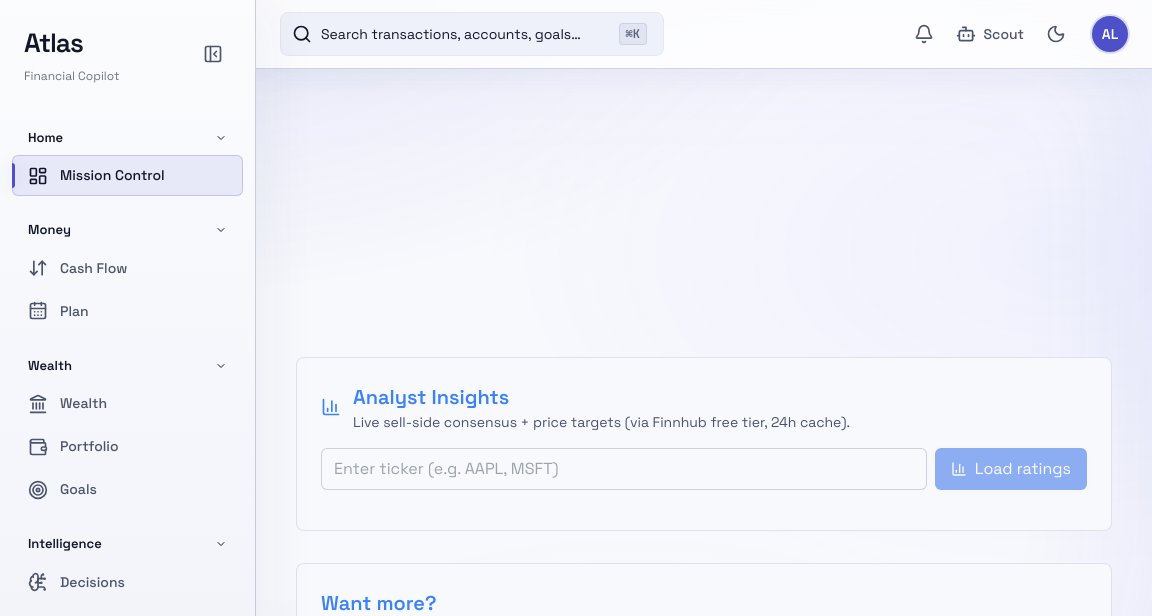
Test: Recommendations Page -- Analyst Insights section › surfaces a friendly retry banner on backend 502
This screenshot has width=1152, height=616.
(page scrolled)
In the field with test id "analyst-ticker-input": (624, 469) [321,448,927,490], type "AAPL"
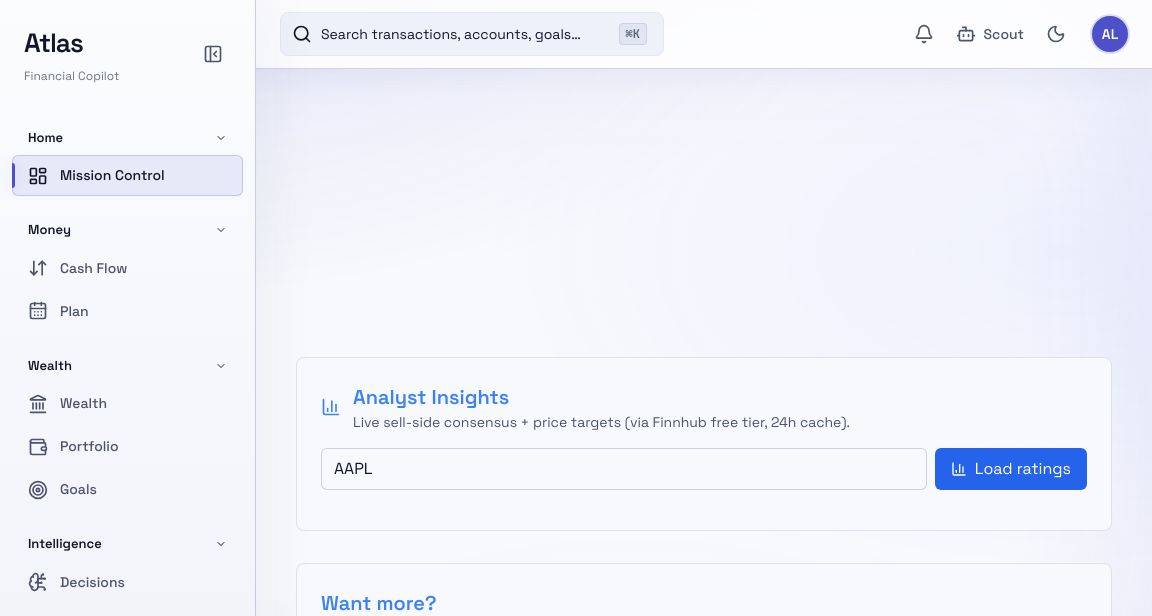
Click the button with test id "analyst-load-btn": click(1011, 469) [935,448,1087,490]
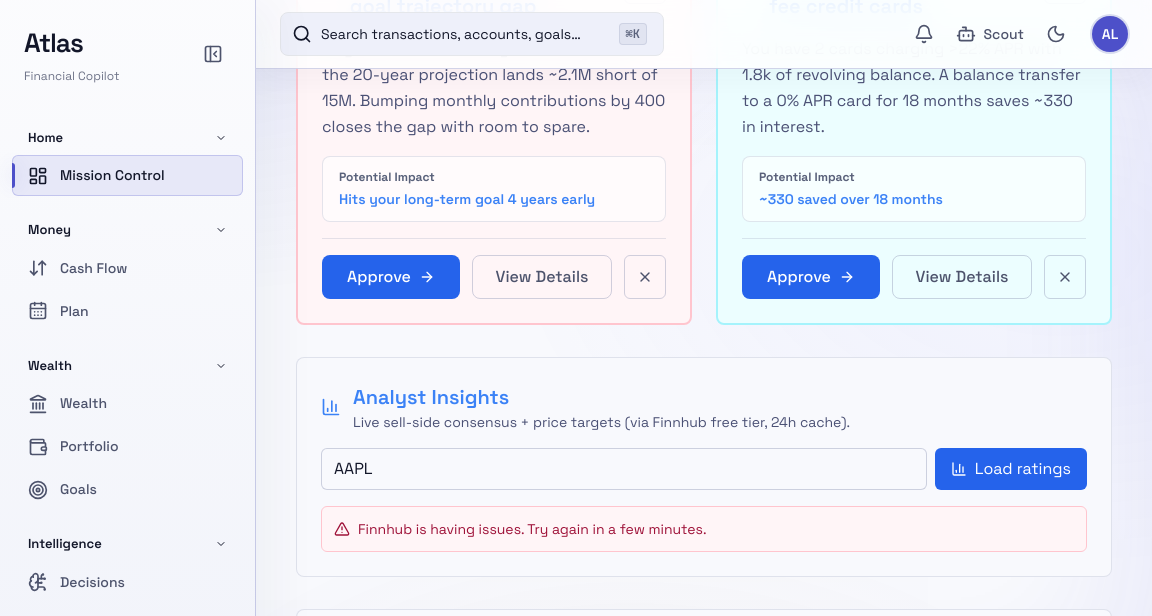
Expected: the message "Finnhub is having issues. Try again in a few minutes." is shown, [321,506,1087,552]
